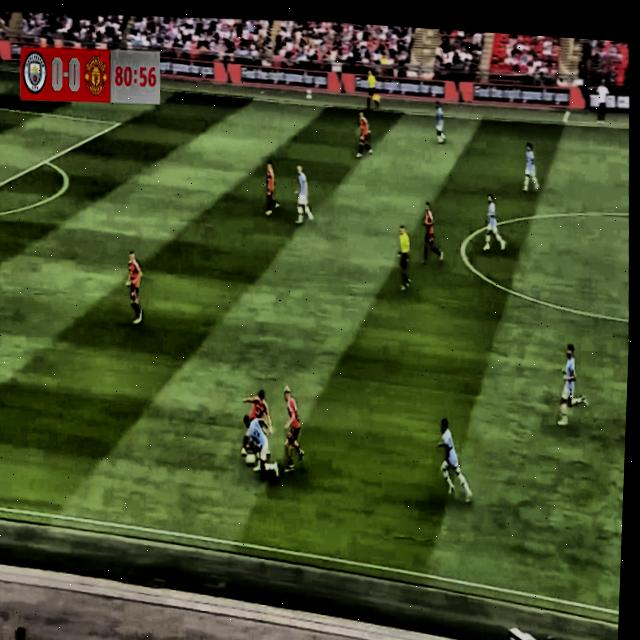ball: (244, 449, 256, 472)
players: (432, 417, 475, 508), (552, 338, 592, 434), (238, 415, 282, 493), (232, 377, 273, 457), (278, 383, 309, 478), (120, 240, 150, 337), (479, 189, 510, 259), (256, 155, 285, 228), (288, 158, 315, 230), (417, 199, 443, 260), (517, 132, 541, 198), (354, 105, 375, 170), (430, 90, 450, 150)
refree: (387, 220, 420, 304), (361, 59, 381, 114)
